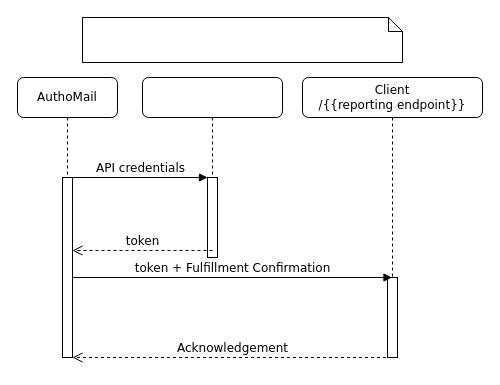
Some shapes in this 500 by 385 pixel diagram are drawn without their labels. Here are the shapes that lost their labels. From the top down, the centre of each, then its label:
pixel 242 39: Client Reporting Endpoint
pixel 212 167: Client /{{token endpoint}}
